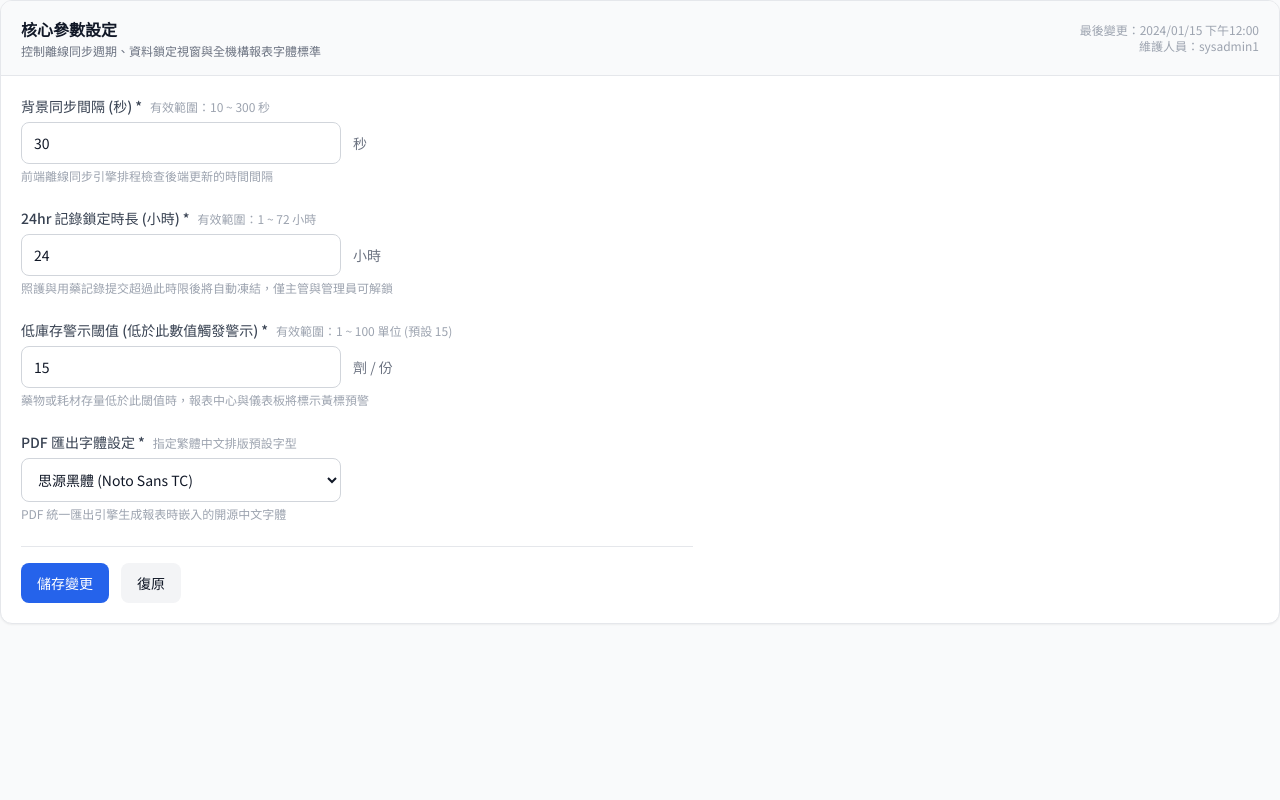
System Settings Form View (Feature F11) › validates ranges and displays error messages on invalid inputs
// Enter out of range values
Step 1. Replace the text in the number field named "背景同步間隔" with "5" → (181, 143), box [21,122,341,164]
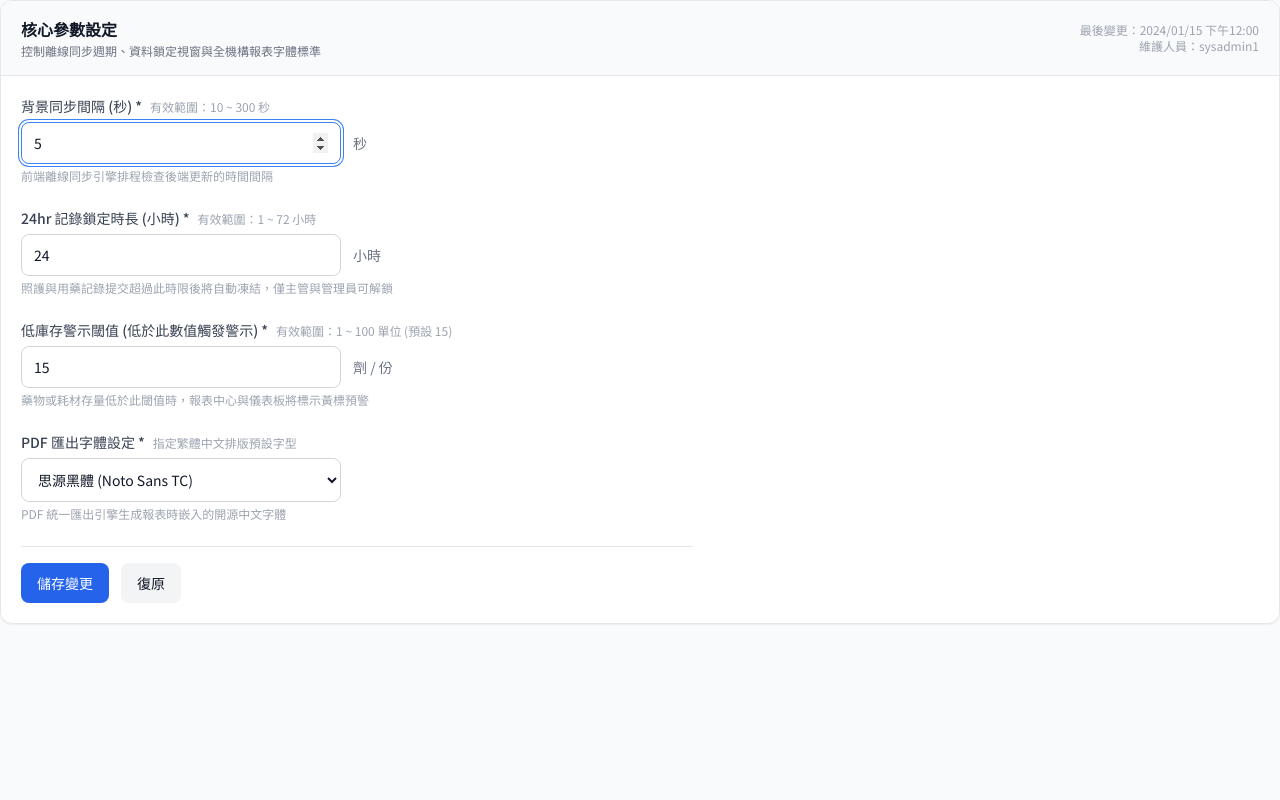
Step 2. Replace the text in the number field named "記錄鎖定時長" with "100" → (181, 255), box [21,234,341,276]
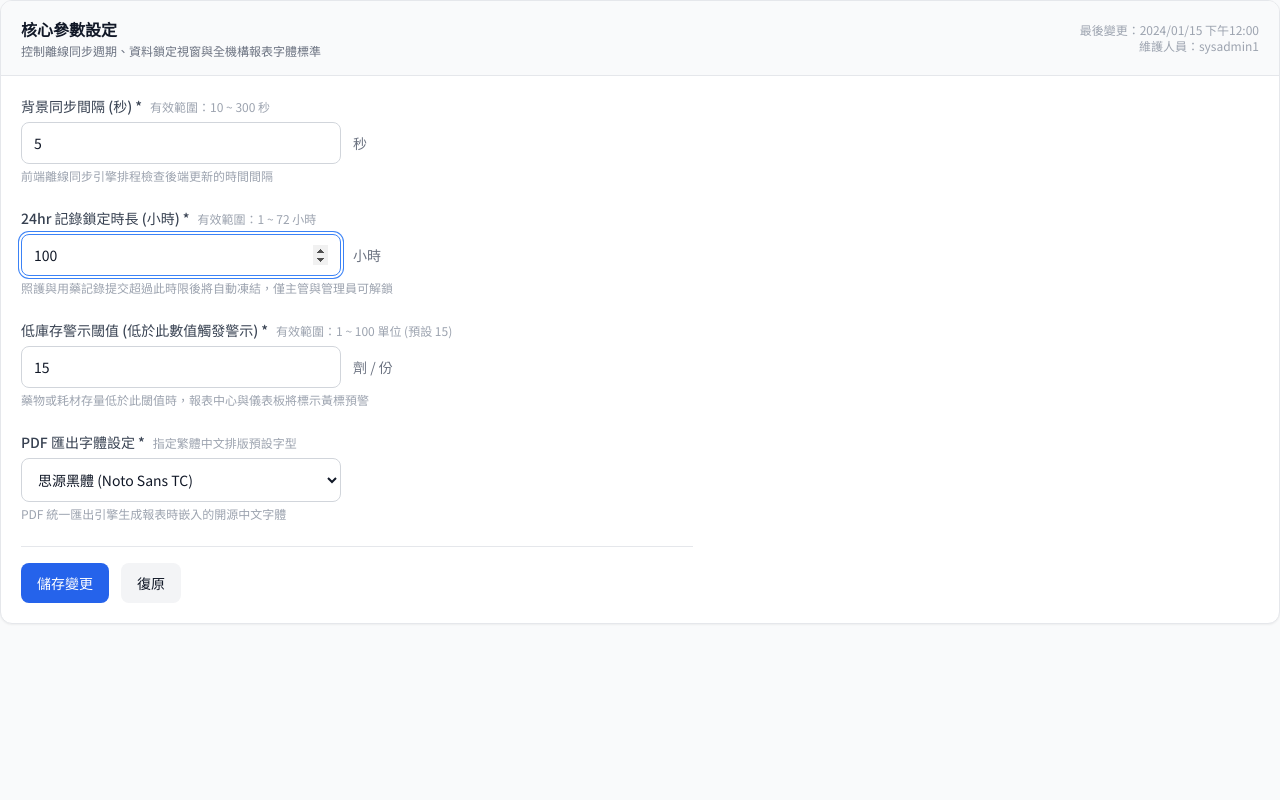
Step 3. Replace the text in the number field named "低庫存警示閾值" with "200" → (181, 367), box [21,346,341,388]
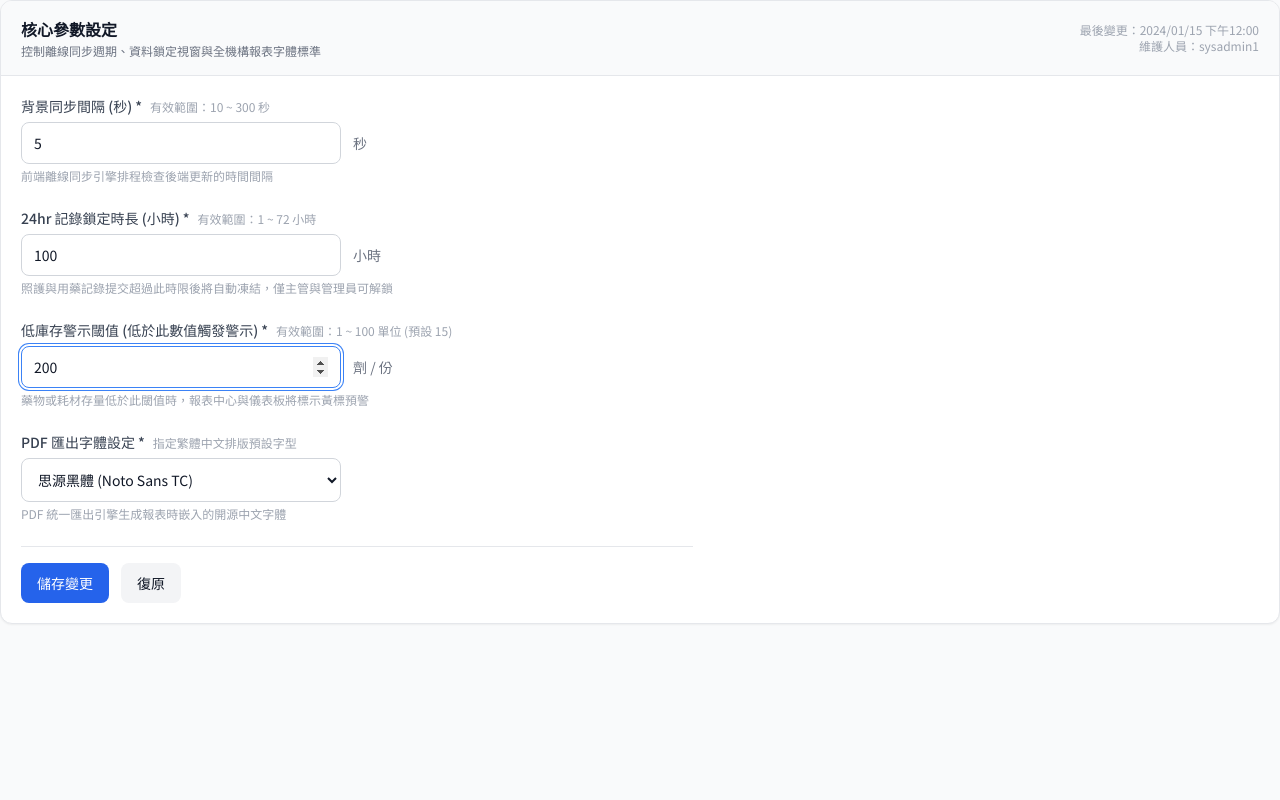
Step 4. Click the button with aria-label "儲存設定" → (65, 583), box [21,563,109,603]
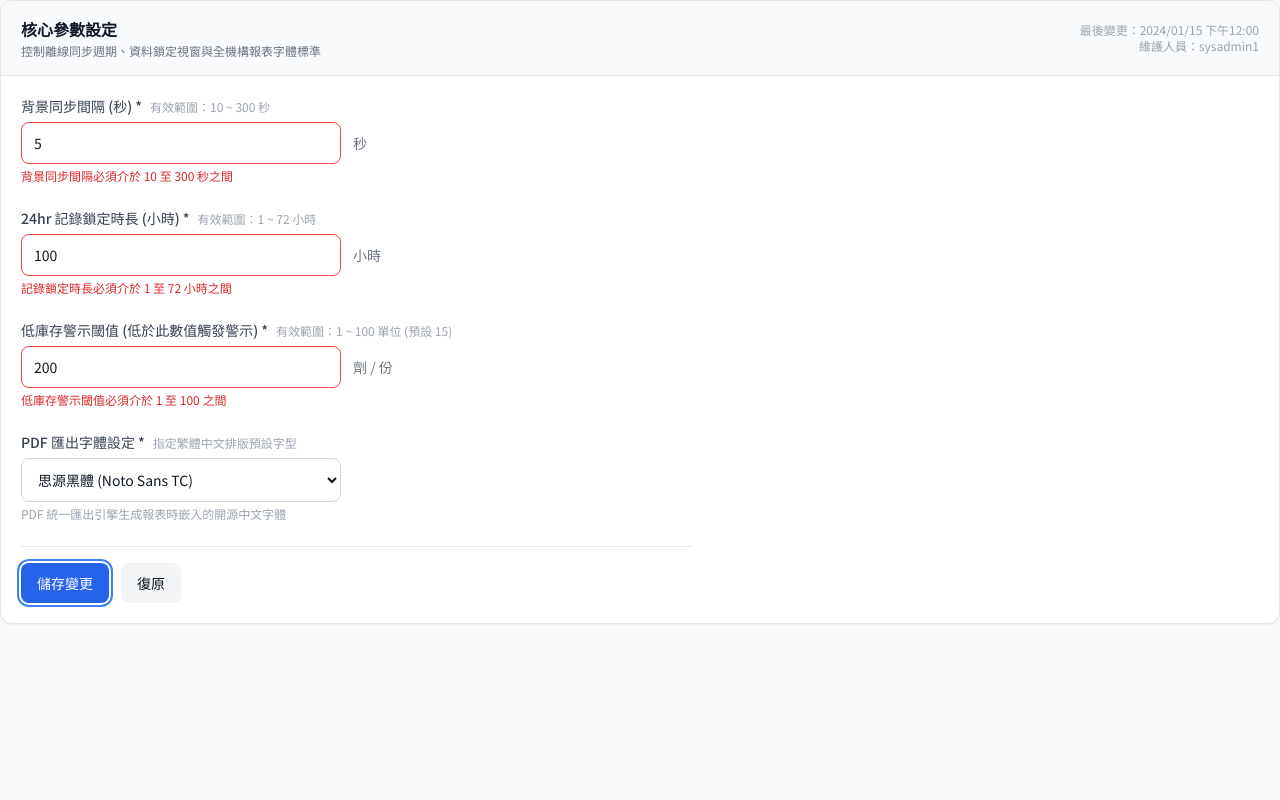
Now the text "背景同步間隔必須介於 10 至 300 秒之間" is shown, box [21,167,233,184]
Now the text "記錄鎖定時長必須介於 1 至 72 小時之間" is shown, box [21,279,232,296]
Now the text "低庫存警示閾值必須介於 1 至 100 之間" is shown, box [21,391,226,408]
